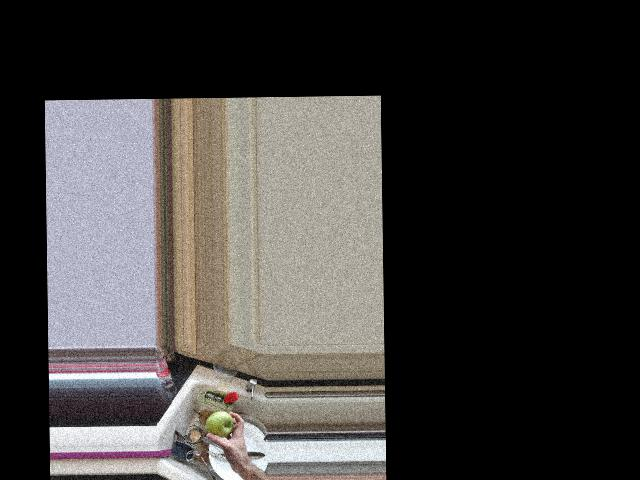apple: (205, 410, 236, 441)
